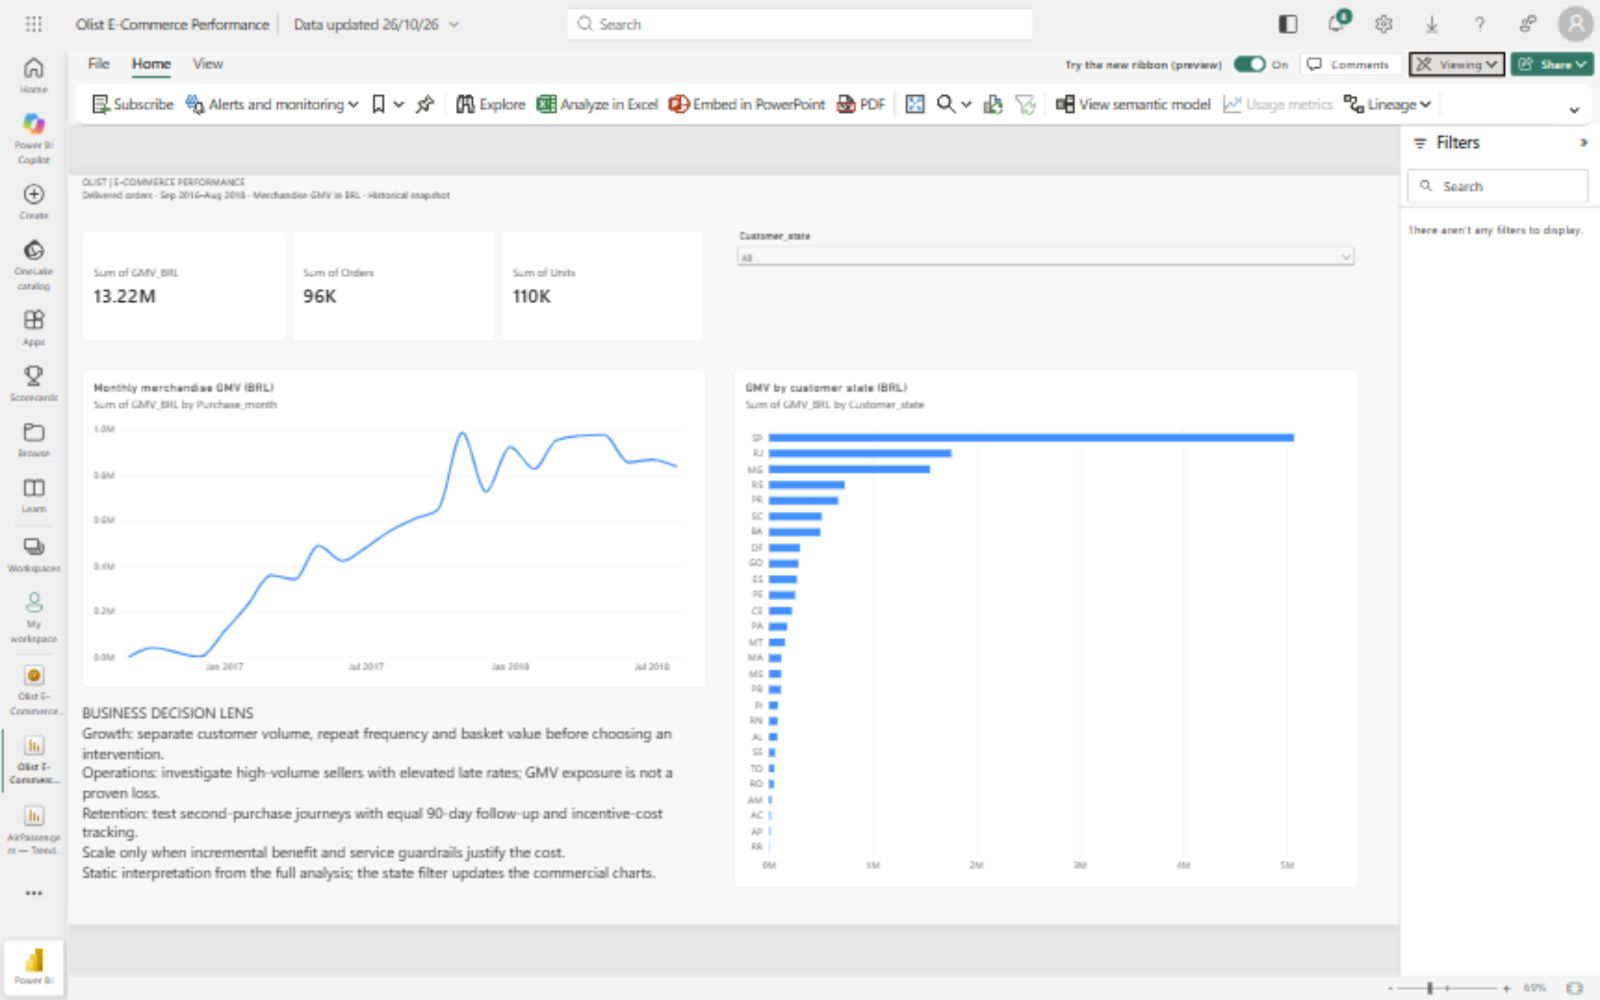

What the dashboard file says about the page in this screenshot:
{"tool":"powerbi","page":{"name":"Page 1","canvas":[1920,1080],"ordinal":0},"visuals":[{"type":"cardVisual","fields":{"Data":["Sum(dashboard_data.GMV_BRL)","Sum(dashboard_data.Orders)","Sum(dashboard_data.Units)"]},"box":[20,80,900,160],"z":0},{"type":"lineChart","title":"Monthly merchandise GMV (BRL)","fields":{"Category":["dashboard_data.Purchase_month"],"Y":["Sum(dashboard_data.GMV_BRL)"]},"box":[20,280,900,460],"z":1},{"type":"clusteredBarChart","title":"GMV by customer state (BRL)","fields":{"Category":["dashboard_data.Customer_state"],"Y":["Sum(dashboard_data.GMV_BRL)"]},"box":[960,279.1,900.6,748.2],"z":2},{"type":"slicer","fields":{"Values":["dashboard_data.Customer_state"]},"box":[960,80,900.6,160],"z":3},{"type":"textbox","box":[20,0,960,75],"z":4},{"type":"textbox","box":[20,760,900,300],"z":5}]}

Visuals, with their boxes on the page's 1920x1080 design canvas (x1, y1, x2, y2). These are canvas units, not pixel positions in the 1600x1000 screenshot, which may show the page scaled, cropped or inside an application window:
cardVisual - Sum(dashboard_data.GMV_BRL) x Sum(dashboard_data.Orders): (20,80,920,240)
"Monthly merchandise GMV (BRL)" lineChart: (20,280,920,740)
"GMV by customer state (BRL)" clusteredBarChart: (960,279,1861,1027)
slicer - dashboard_data.Customer_state: (960,80,1861,240)
textbox: (20,0,980,75)
textbox: (20,760,920,1060)
